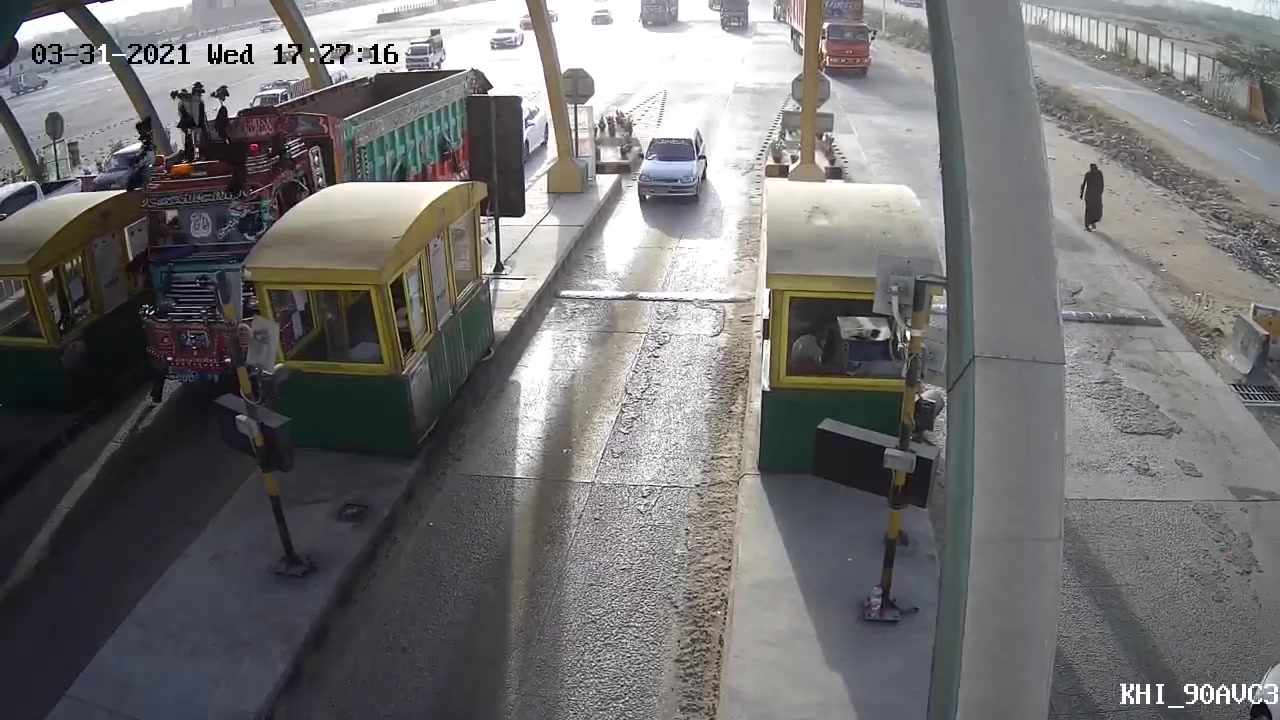F1: (621, 121, 713, 212)
